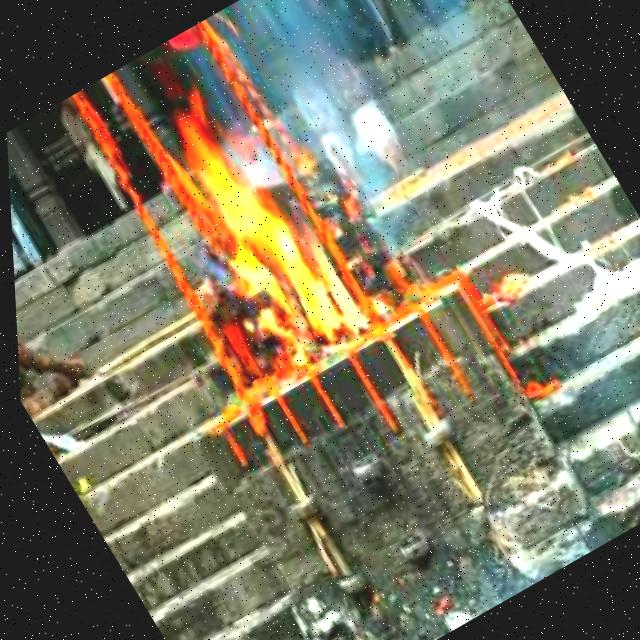Fire: (143, 94, 378, 378)
